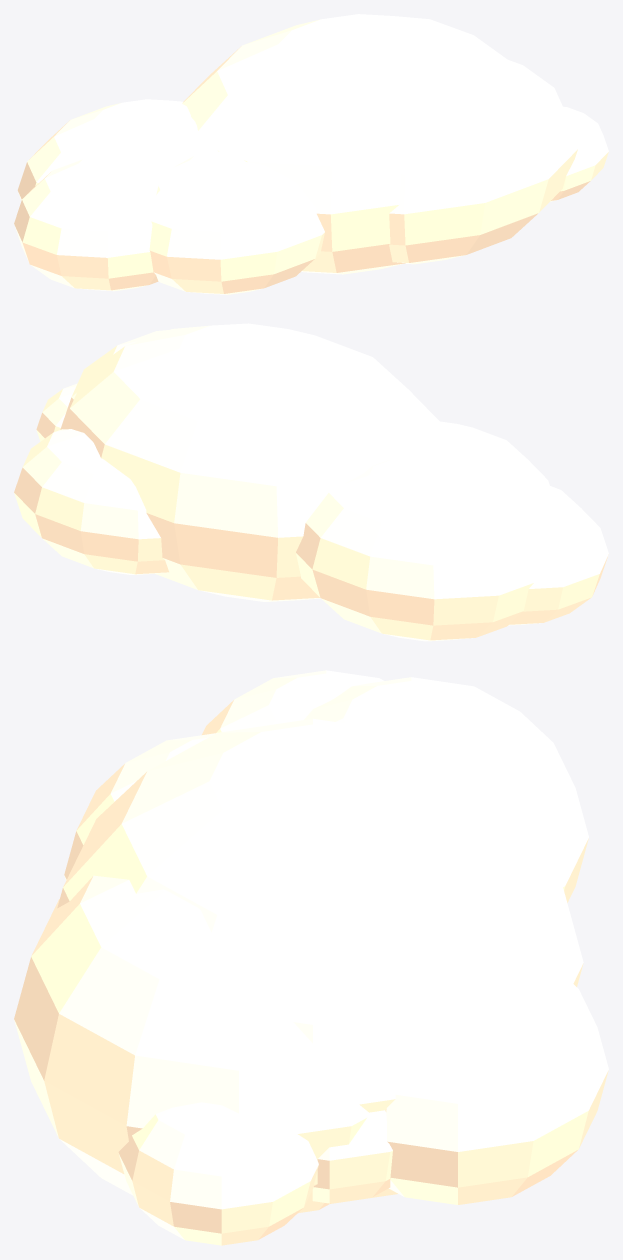
File: cloud_warm_a.fbx
The picture shows the model from 3 angles, top to bottom: view 1: azimuth 30°, elevation 25°; view 2: azimuth 150°, elevation 25°; view 3: azimuth 270°, elevation 25°; orthographic projection. The views are drawn at different scales.
Visible parts, largest first — view 1: cloud_warm_a; view 2: cloud_warm_a; view 3: cloud_warm_a.
Part boxes in pixels (x1,y1,x2,y2): cloud_warm_a: [14, 14, 608, 294]; cloud_warm_a: [14, 323, 608, 641]; cloud_warm_a: [14, 670, 608, 1245].
Size of the model in its own units: 34.68 by 13.47 by 18.5.
